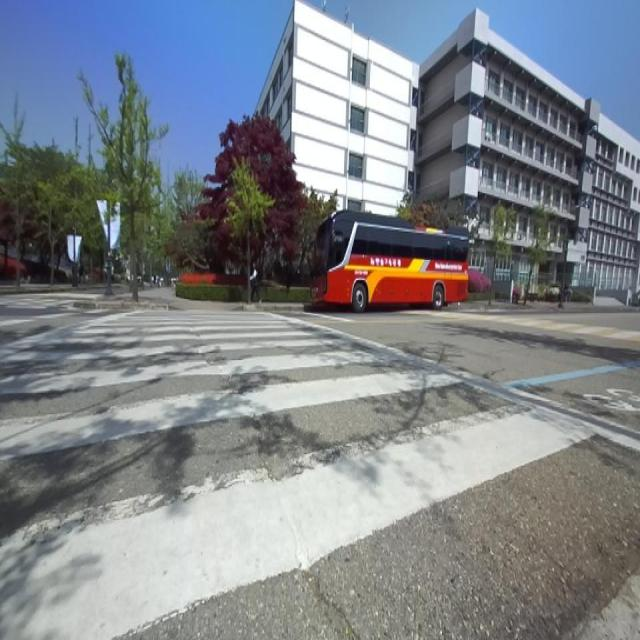sidewalk: (168, 297, 242, 309), (138, 286, 175, 303), (562, 302, 630, 310), (528, 303, 558, 309), (262, 302, 310, 304)
